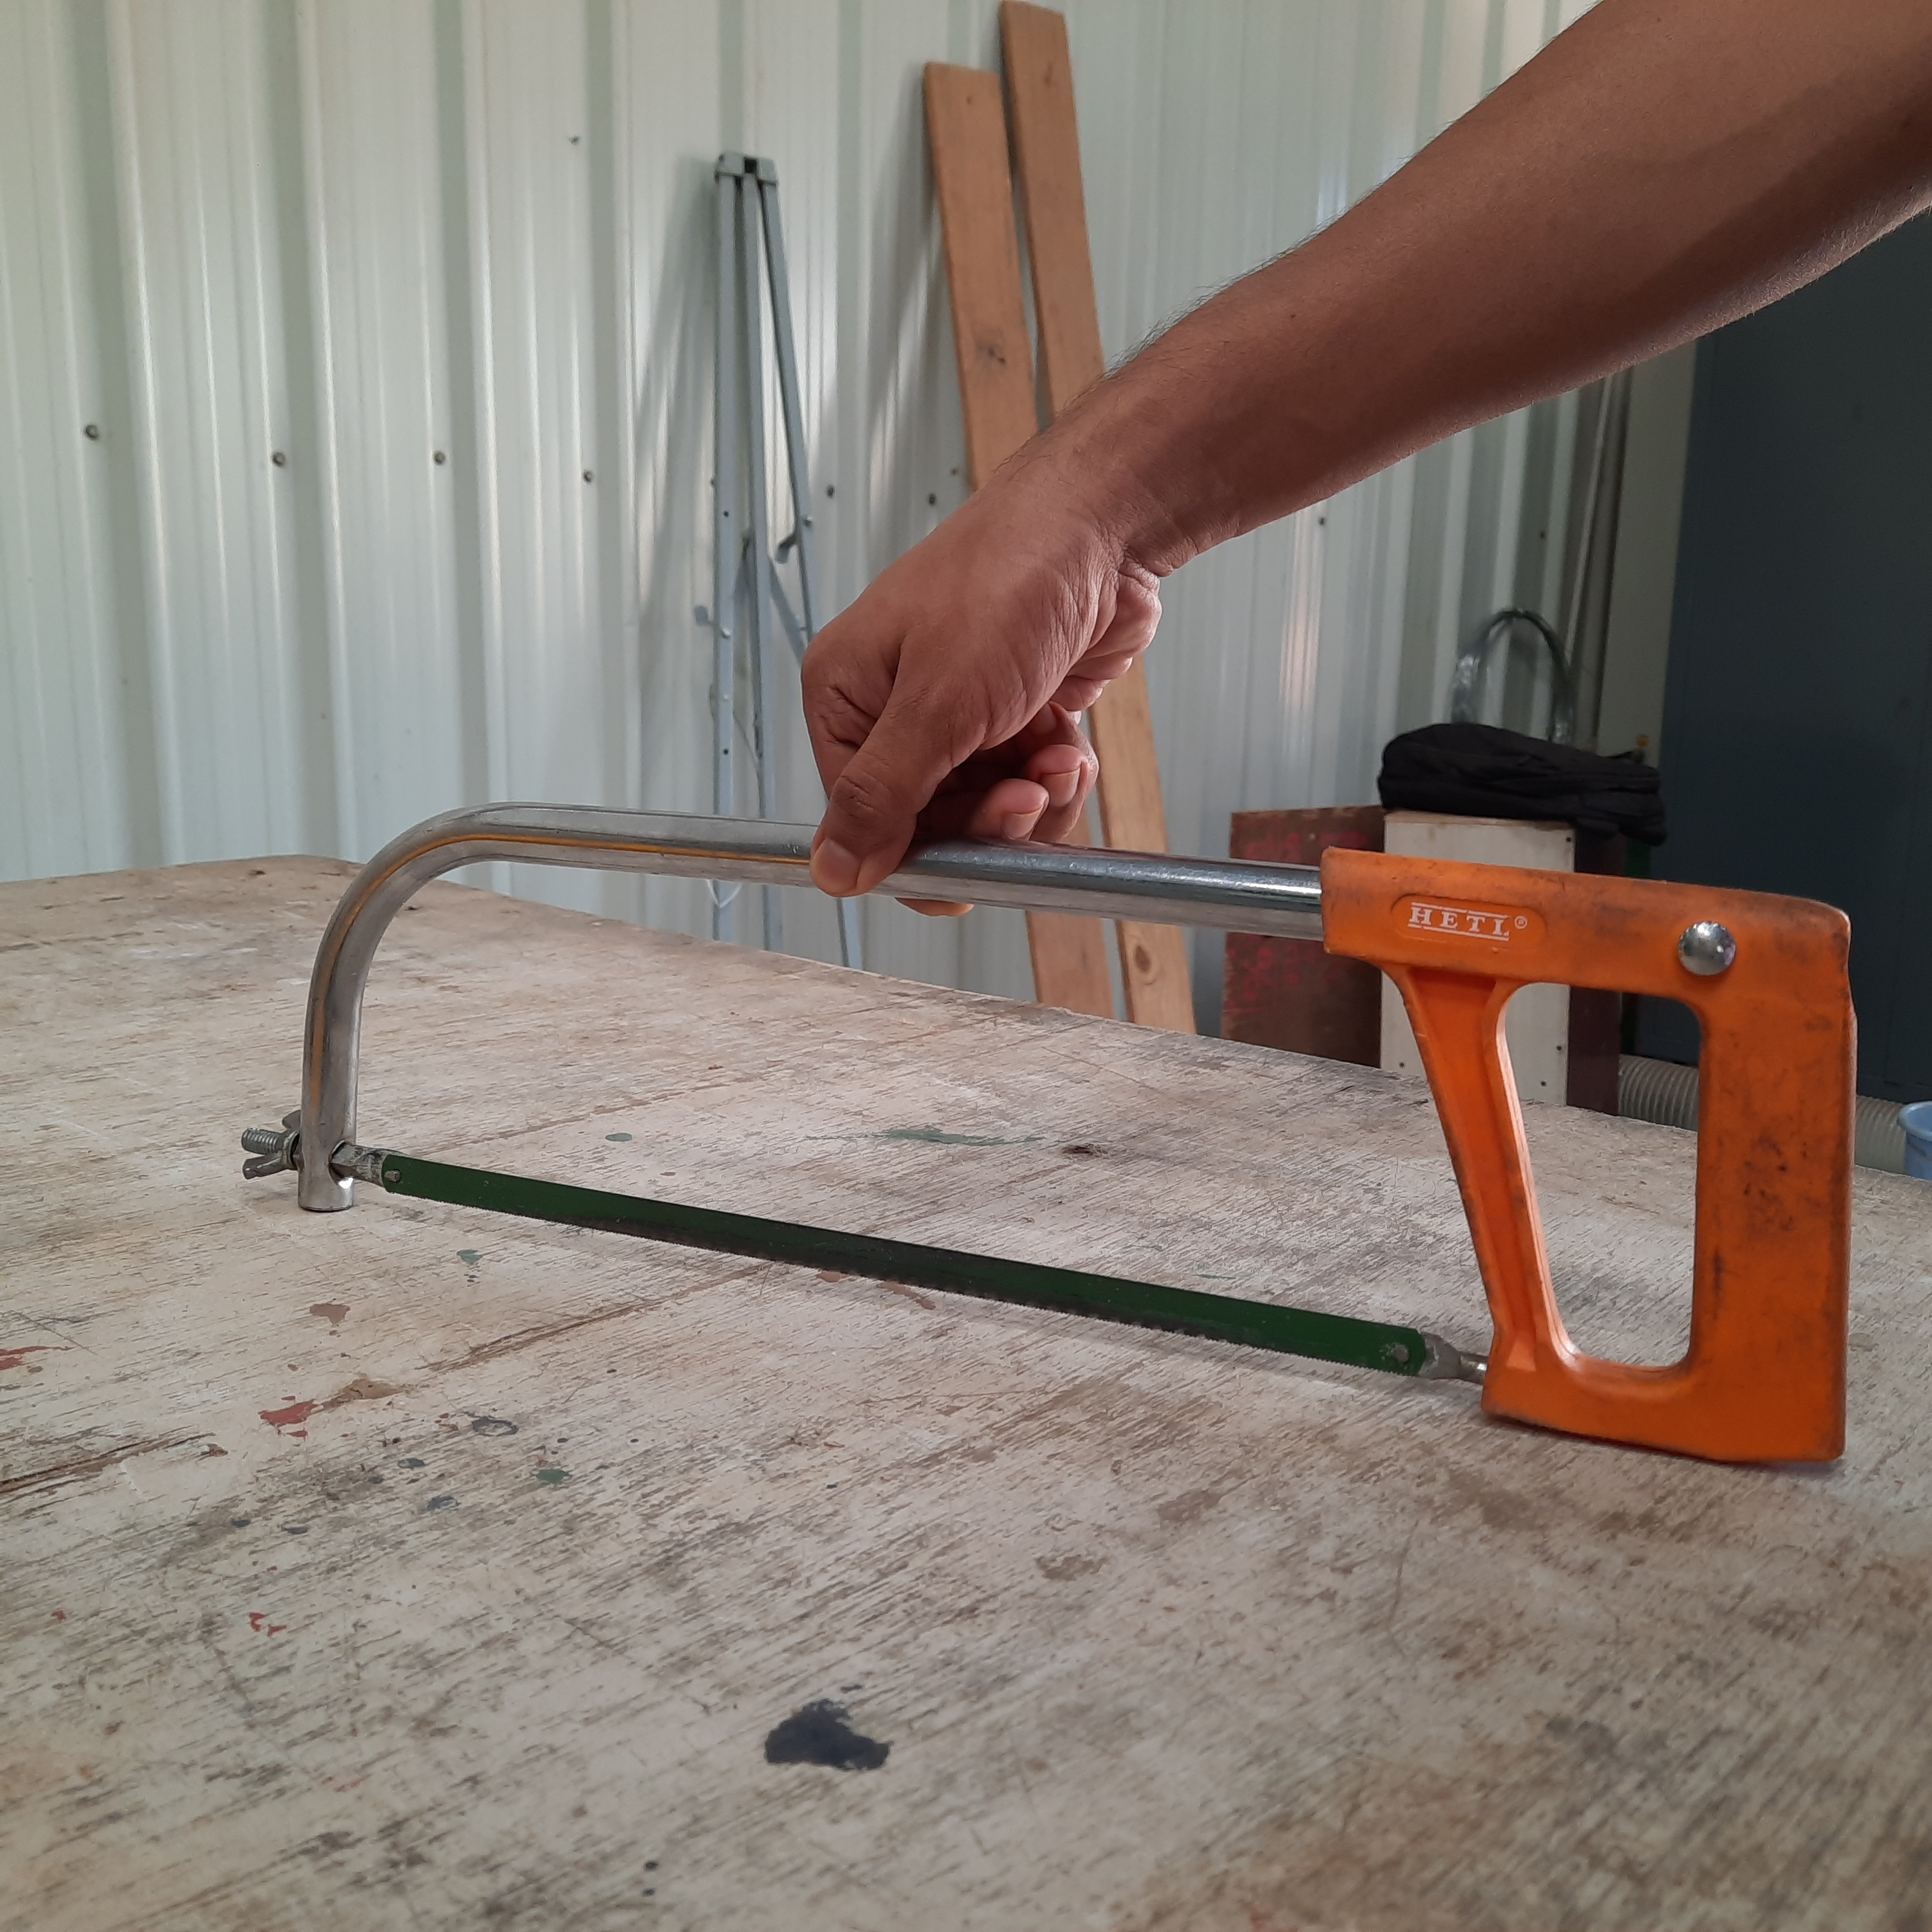Hexaframe: (223, 782, 1870, 1490)
